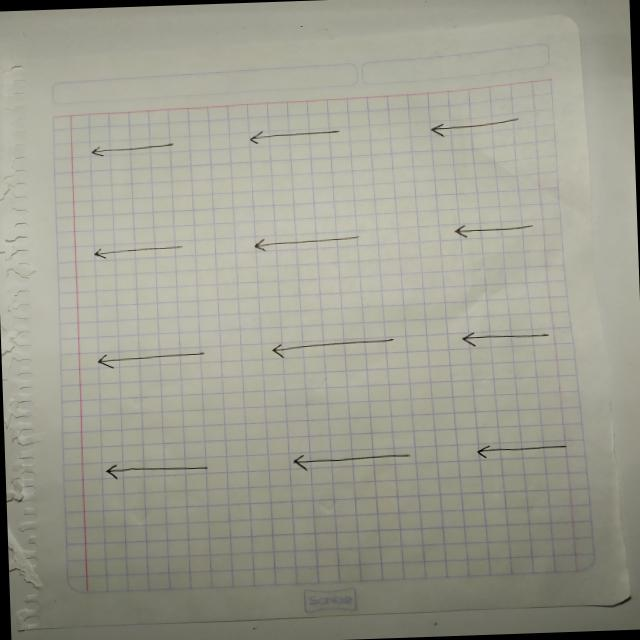arrow_line_left: (259, 334, 406, 368), (278, 443, 422, 476), (84, 344, 227, 374), (240, 230, 379, 257), (96, 455, 220, 485), (82, 235, 192, 268), (448, 326, 562, 356), (466, 438, 582, 464), (237, 124, 356, 148), (420, 115, 536, 139), (80, 136, 182, 161), (442, 220, 550, 242)
